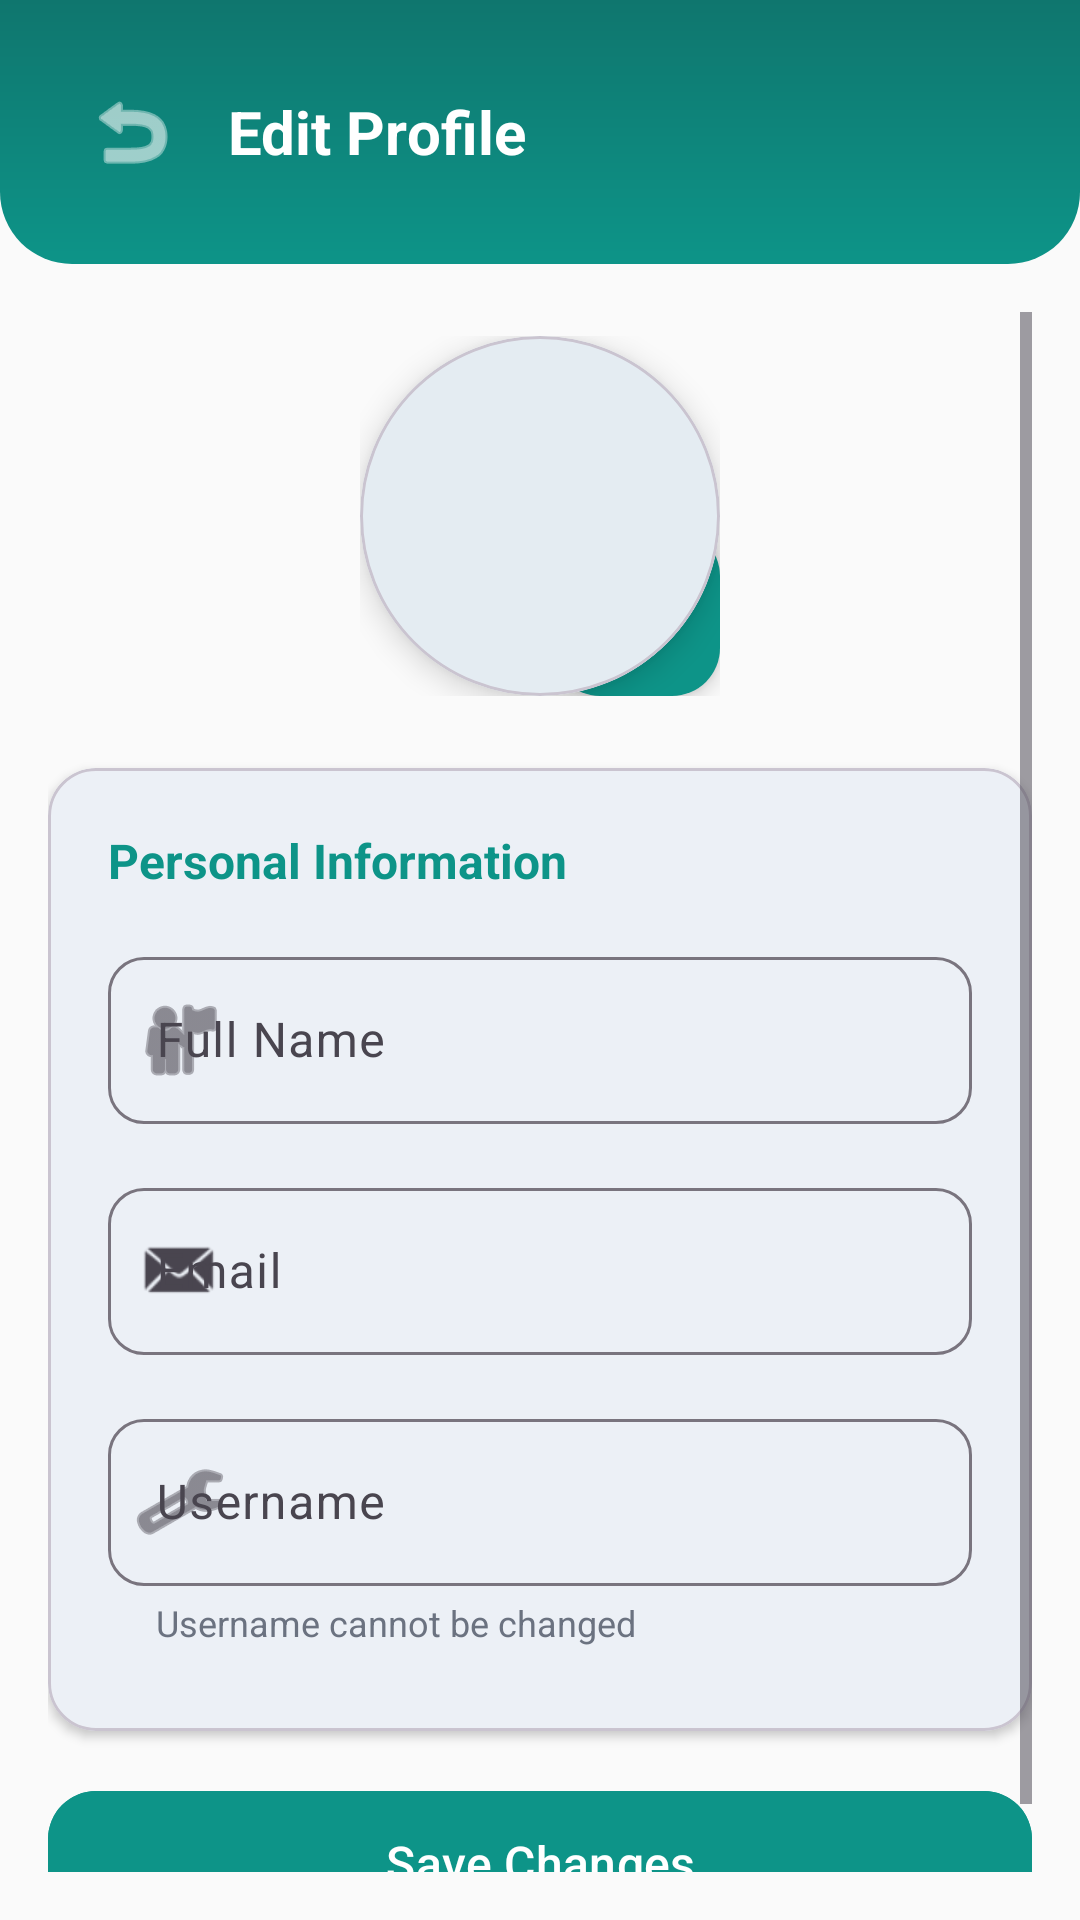

Named icons in this screenshot (1080x1920) and their centers, point (x, y):
Back: point (133, 132)
